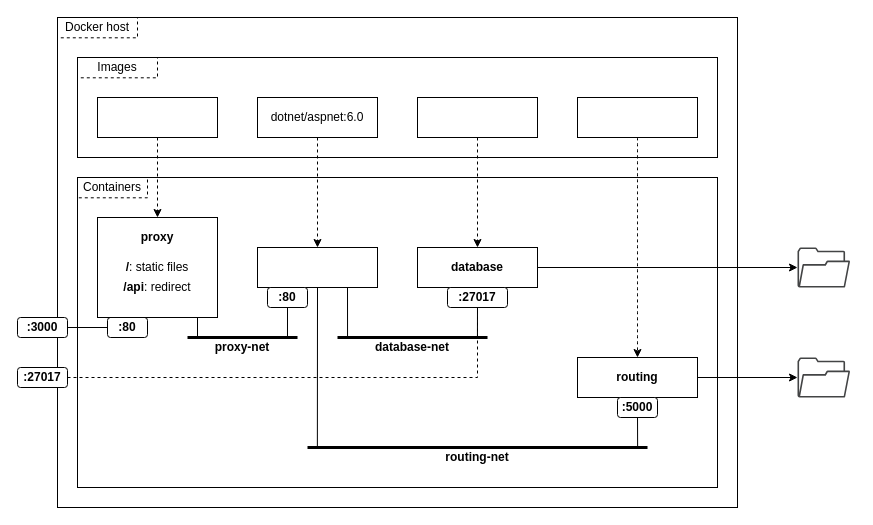
Some shapes in this 873 by 525 pixel diagram are drawn without their labels. The shapes that lost their labels are listed below. From the top down, each one's centre as x and y in pixels, then its label:
At pixel 157 117: "nginx".
At pixel 477 117: "mongo".
At pixel 637 117: "osrm/osrm-backend".
At pixel 317 267: "backend".
At pixel 823 267: ".../database".
At pixel 823 377: ".../routing".
